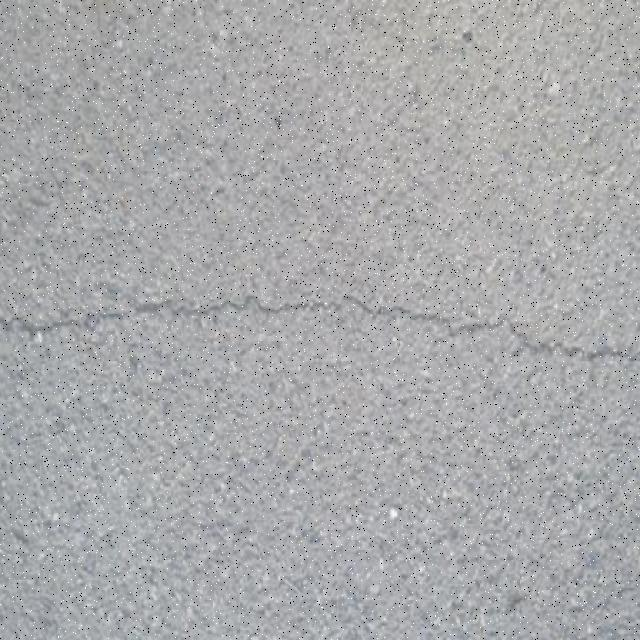moderate crack: (10, 281, 638, 360), (506, 321, 630, 360), (10, 310, 94, 338), (336, 290, 401, 317), (441, 316, 508, 336)
severe crack: (198, 290, 338, 318)
